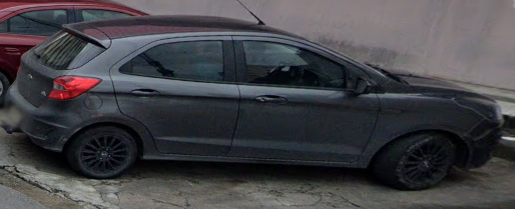car: (12, 16, 503, 193)
